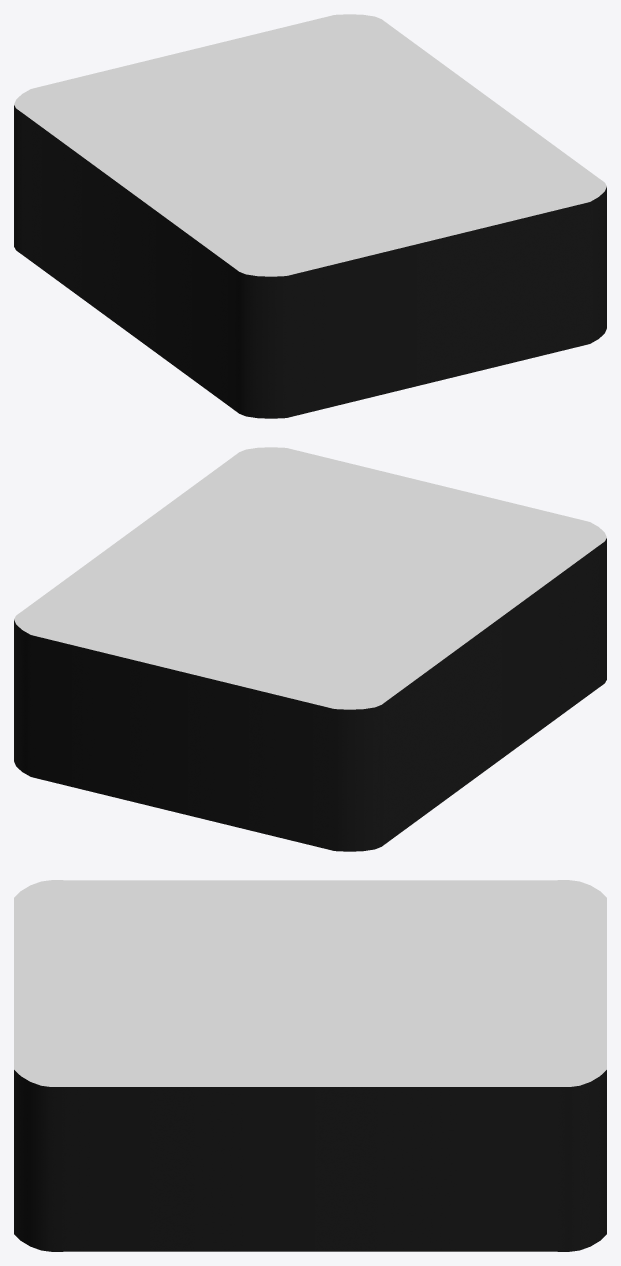
The model's file is stemVRbase.fbx.
The picture shows the model from 3 angles, top to bottom: view 1: azimuth 30°, elevation 25°; view 2: azimuth 150°, elevation 25°; view 3: azimuth 270°, elevation 25°; orthographic projection. The views are drawn at different scales.
Parts seen in each view (by area): view 1: stemVRbase; view 2: stemVRbase; view 3: stemVRbase.
Boxes of the visible parts, left/top/right/bottom form: stemVRbase: left=14, top=14, right=606, bottom=418; stemVRbase: left=14, top=447, right=606, bottom=851; stemVRbase: left=14, top=880, right=606, bottom=1251.
Bounding box in the file's own units: 18.41 × 6.83 × 22.29.
